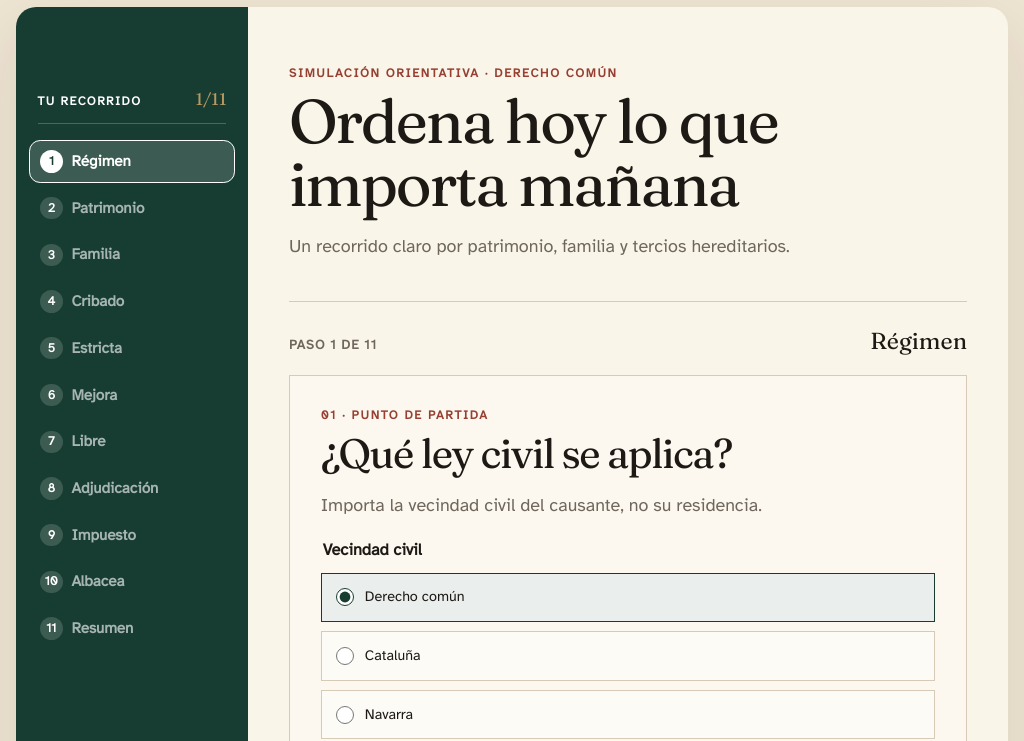
Test: wizard › envía un caso foral al resumen sin reparto
Click the radio button labelled "Cataluña": (345, 656) [336,647,354,665]
(page scrolled)
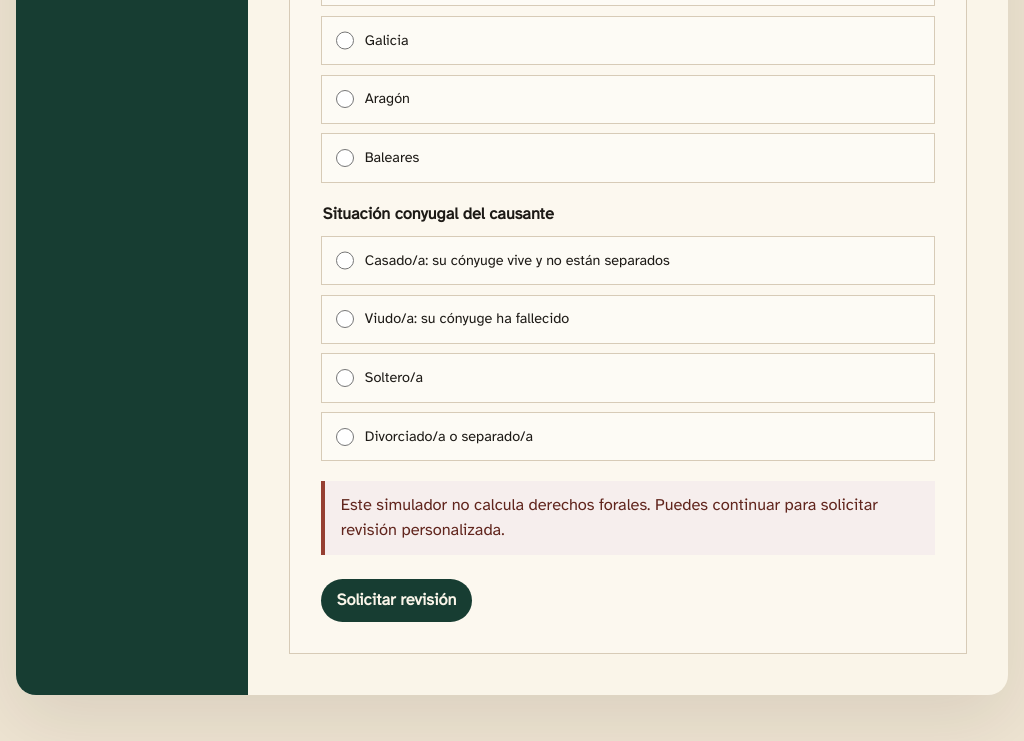
Click the radio button labelled "Soltero/a": (345, 378) [336,369,354,387]
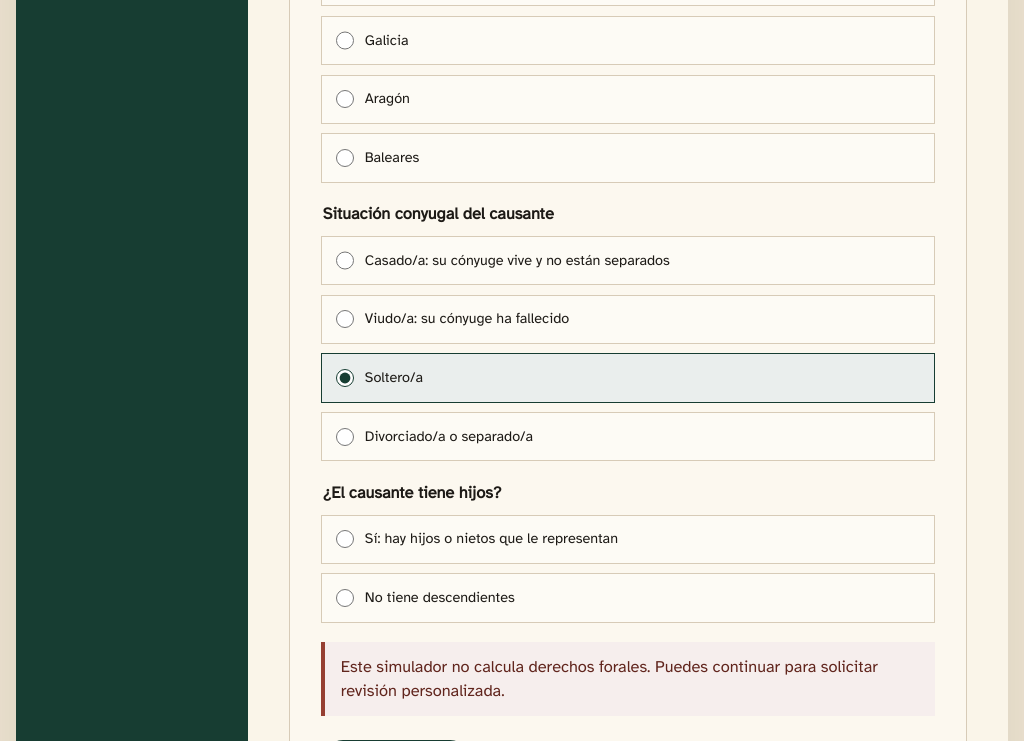
Click the radio button with test id "tiene-hijos-si": (345, 539) [336,530,354,548]
(page scrolled)
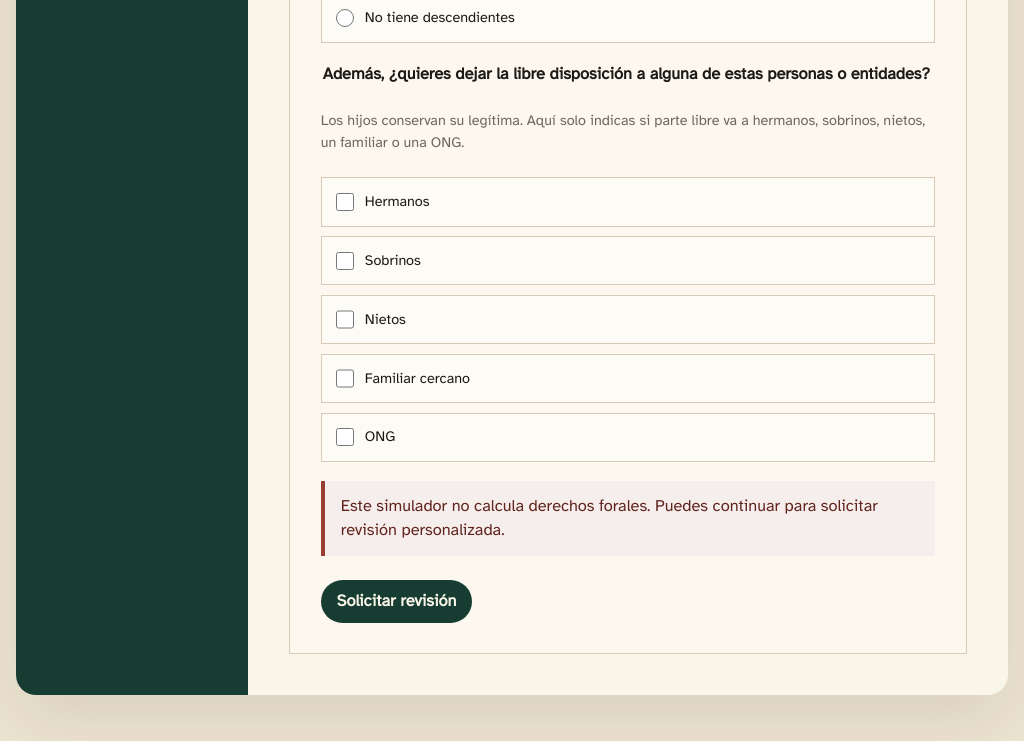
Expected: the text with test id "aviso-foral" is shown, [321,481,935,556]
Click the button with test id "continuar": (397, 601) [321,580,472,623]
(page scrolled)
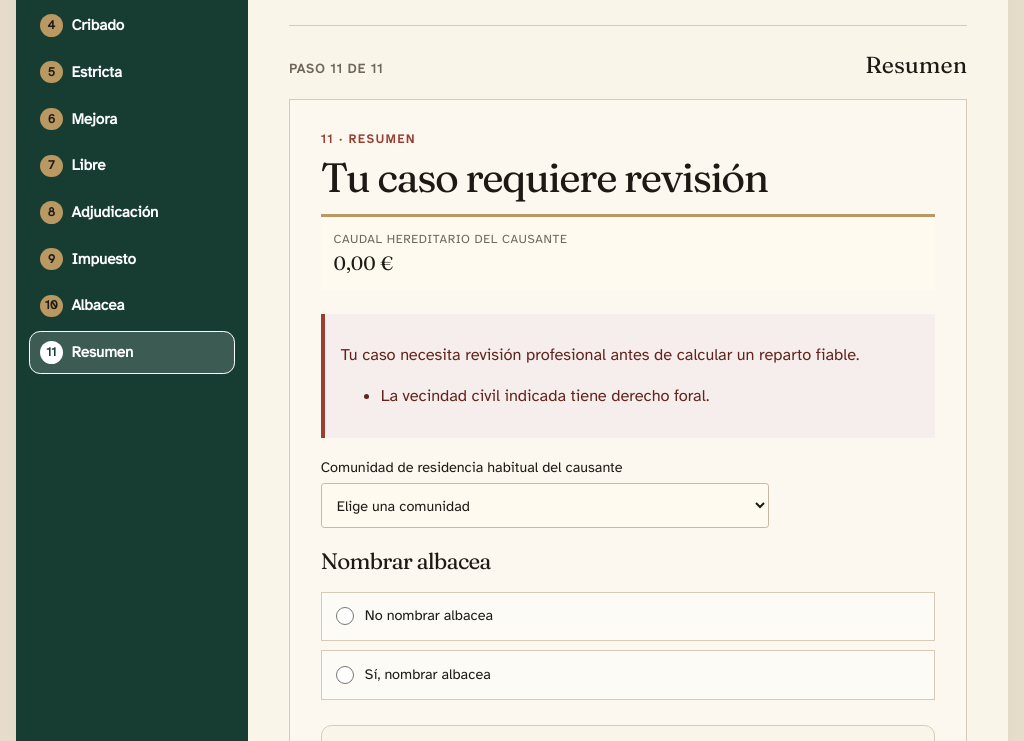
Expected: the element with test id "resumen-bloqueante" is shown, [321,314,935,438]
Expected: the text "derecho foral" is shown, [381,385,710,406]
